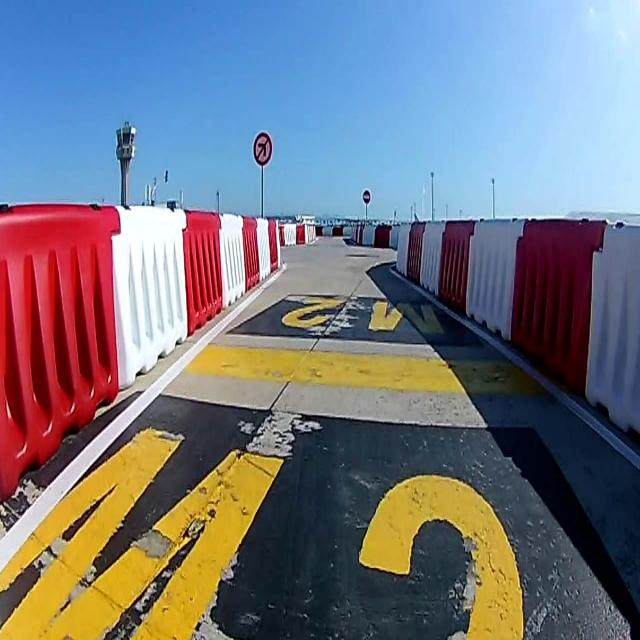girisyok: (361, 187, 373, 205)
soladonulmez: (254, 131, 272, 169)
